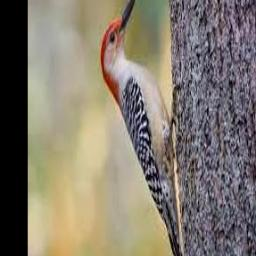Woodpecker: (100, 0, 188, 256)
